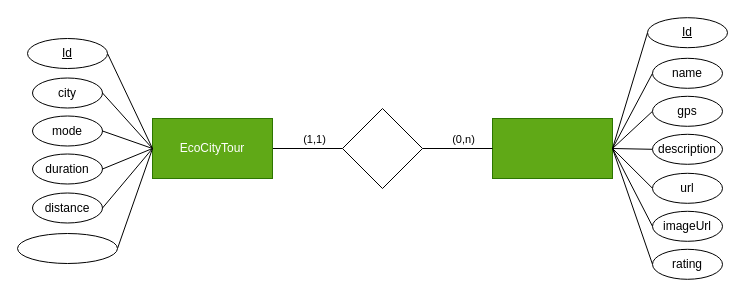
The diagram is 745 pixels wide and 297 high, and some of its shapes have lost their labels. The centre of each missing label's shape, as x and y in pixels:
"PointOfInterest" goes at point (552, 148).
"Posee" goes at point (382, 148).
"userPreferences" goes at point (67, 248).
